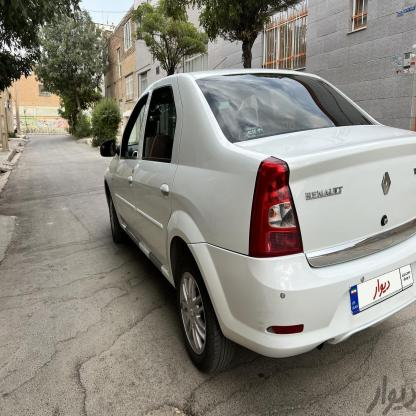Car: (99, 64, 416, 378)
